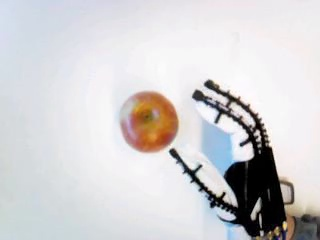apple: (119, 90, 176, 150)
hand: (169, 81, 288, 237)
